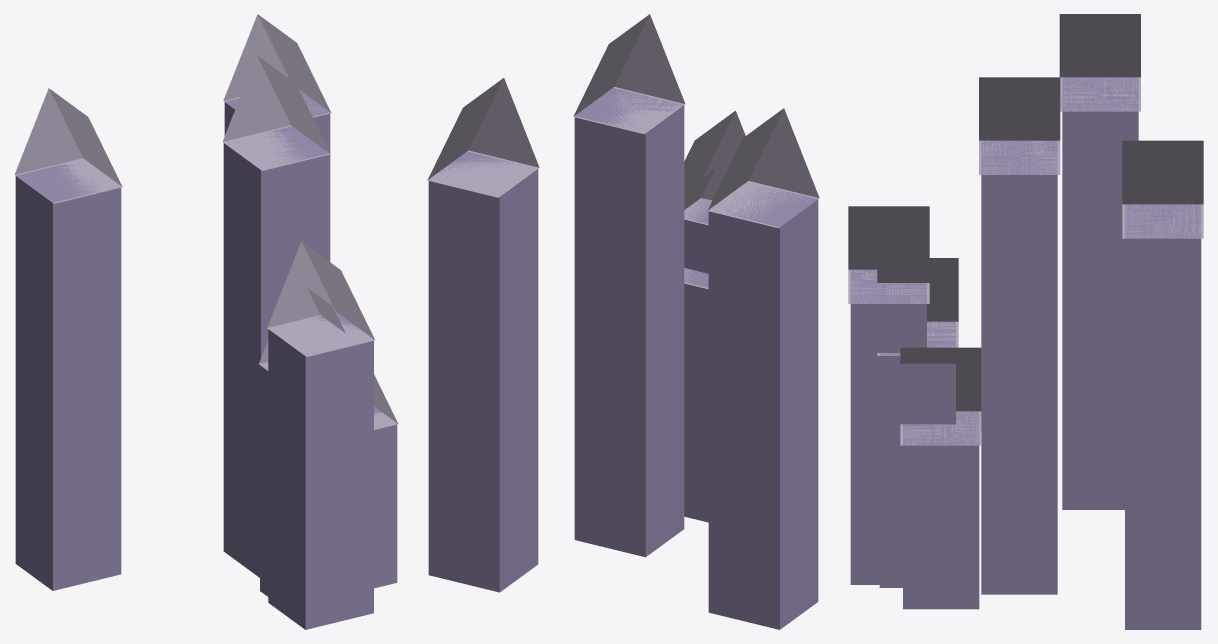
The model's file is cristal_purpura.glb.
The picture shows the model from 3 angles, left to right: view 1: azimuth 30°, elevation 25°; view 2: azimuth 150°, elevation 25°; view 3: azimuth 270°, elevation 25°; orthographic projection. The views are drawn at different scales.
Parts seen in each view (by area): view 1: part_010, part_008, part_004, part_009, part_005, part_011, part_002, part_007, part_000, part_006, part_003, part_001; view 2: part_004, part_010, part_006, part_007, part_011, part_005, part_000, part_009, part_008, part_001; view 3: part_004, part_006, part_010, part_002, part_008, part_000, part_007, part_005, part_011, part_009, part_003, part_001.
Part boxes in pixels (x1,y1,x2,y2): part_010: (15, 163, 121, 590); part_008: (268, 312, 373, 629); part_004: (223, 126, 329, 577); part_009: (267, 241, 374, 356); part_005: (222, 55, 330, 170); part_011: (14, 88, 122, 203); part_002: (374, 406, 397, 588); part_007: (223, 14, 331, 117); part_000: (260, 365, 268, 596); part_006: (224, 89, 330, 261); part_003: (374, 374, 398, 429); part_001: (259, 288, 345, 370); part_004: (574, 88, 684, 557); part_010: (708, 183, 818, 629); part_006: (428, 151, 538, 592); part_007: (427, 78, 539, 197); part_011: (707, 108, 819, 228); part_005: (573, 14, 685, 134); part_000: (684, 268, 708, 522); part_009: (684, 110, 745, 225); part_008: (684, 198, 711, 273); part_001: (684, 169, 720, 289); part_004: (981, 140, 1057, 594); part_006: (1125, 204, 1201, 629); part_010: (1062, 77, 1138, 509); part_002: (903, 411, 979, 609); part_008: (850, 269, 926, 584); part_000: (879, 321, 955, 587); part_007: (1122, 140, 1203, 238); part_005: (979, 77, 1060, 174); part_011: (1059, 14, 1140, 111); part_009: (848, 206, 929, 303); part_003: (900, 347, 981, 445); part_001: (877, 258, 958, 355).
Size of the model in its own units: 1.44 by 2.17 by 1.4.
